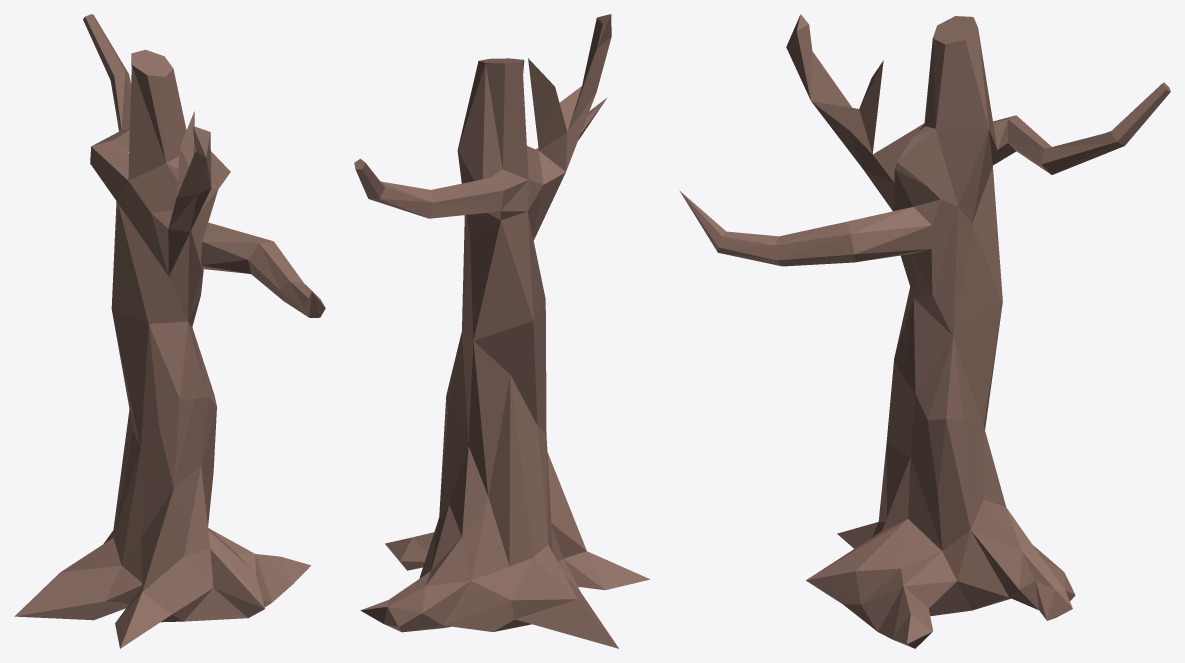
File: fantasy_plant_008.fbx
3 views of the same model, side by side, from view 1: azimuth 30°, elevation 25°; view 2: azimuth 150°, elevation 25°; view 3: azimuth 270°, elevation 25° (orthographic). The views are drawn at different scales.
Parts seen in each view (by area): view 1: fantasy_plant.008; view 2: fantasy_plant.008; view 3: fantasy_plant.008.
Part boxes in pixels (x1,y1,x2,y2): fantasy_plant.008: (14,14,325,648); fantasy_plant.008: (354,14,650,648); fantasy_plant.008: (679,14,1170,648).
Size of the model in its own units: 372 by 733 by 574.
1 material, 1 textured.
